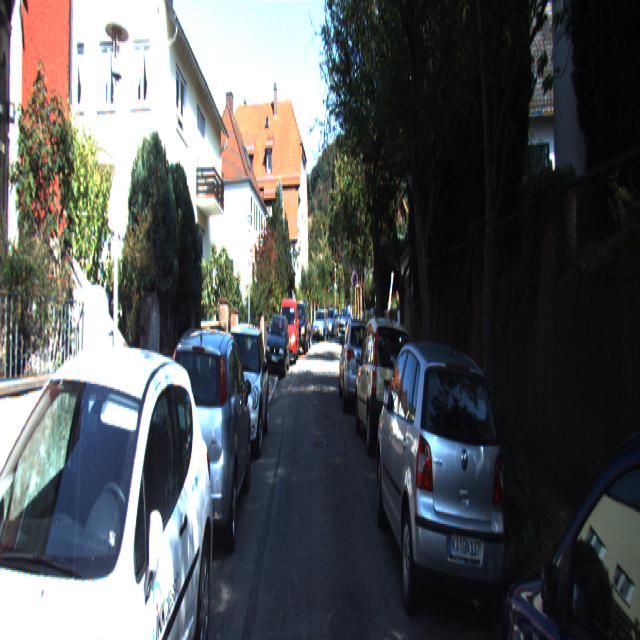Car: (0, 314, 217, 638), (489, 328, 640, 638), (376, 328, 515, 638), (158, 321, 252, 573), (353, 310, 416, 462), (212, 323, 269, 464), (338, 313, 379, 419), (265, 312, 290, 382), (278, 294, 300, 366), (290, 301, 308, 358)
